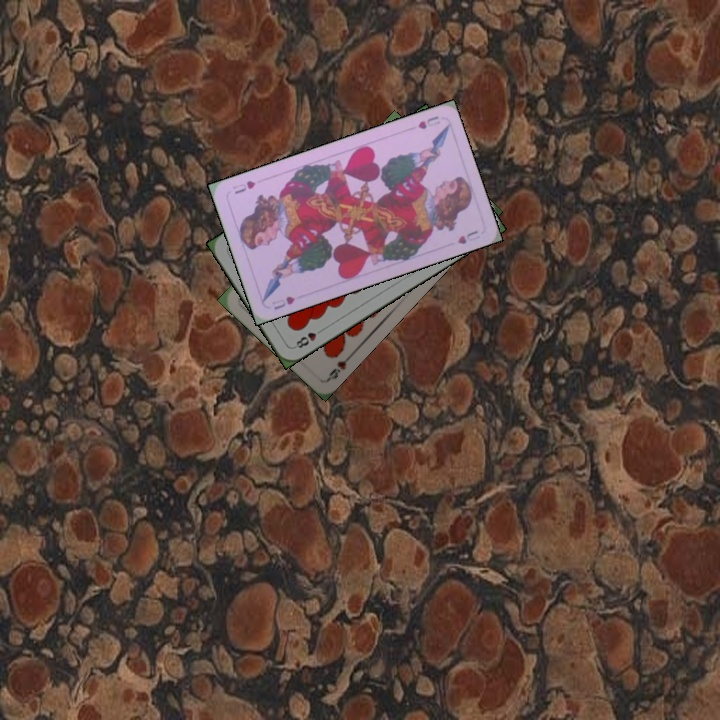H8: (291, 324, 326, 351)
H9: (324, 349, 356, 383)
HU: (268, 292, 298, 312), (414, 112, 442, 132)
